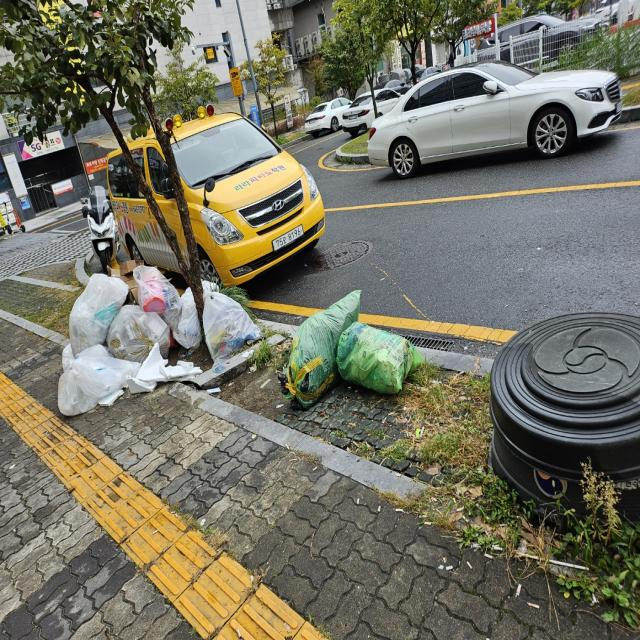General Waste: (284, 283, 368, 411), (333, 317, 424, 398), (55, 343, 145, 420), (63, 266, 126, 356), (196, 277, 264, 360), (106, 302, 172, 362), (135, 257, 180, 320)
